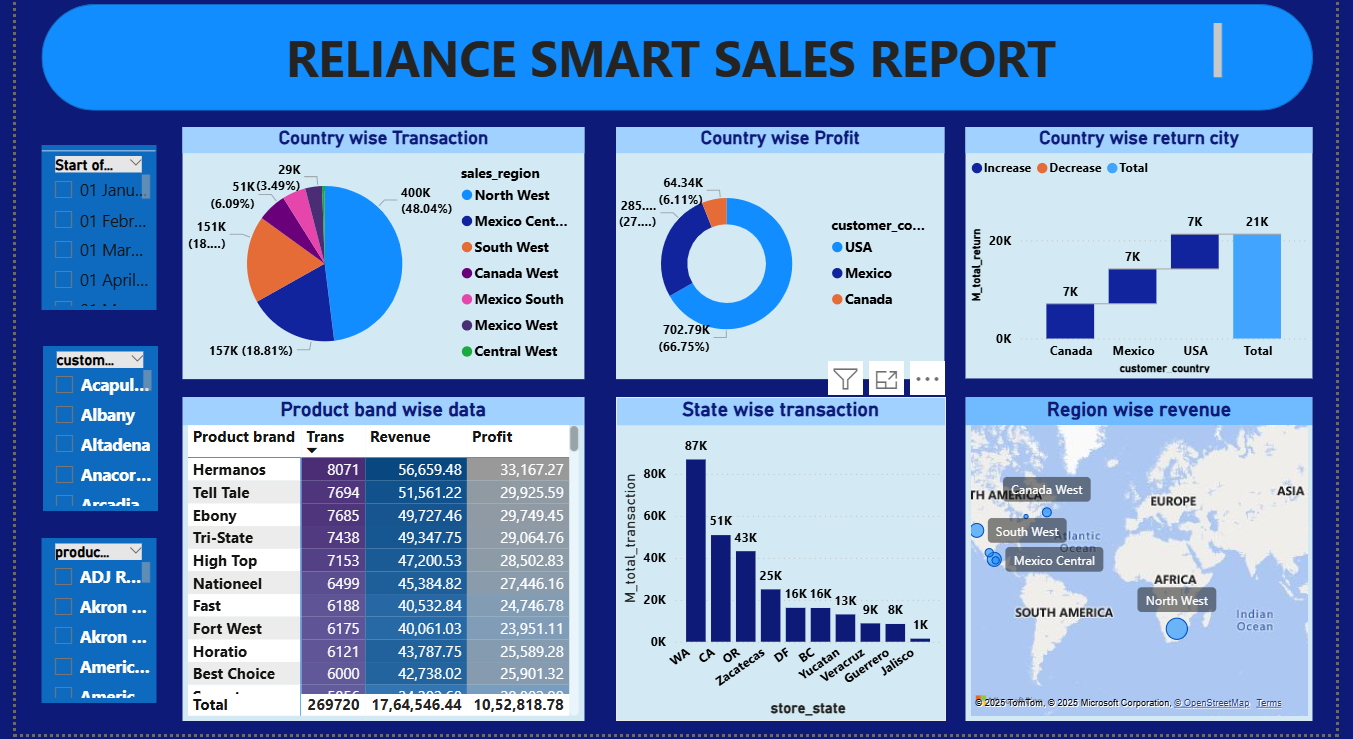

The page's visual inventory and layout, read from the dashboard file:
{"tool":"powerbi","page":{"name":"Sales Report","canvas":[1280,720],"ordinal":1},"visuals":[{"type":"shape","box":[24.6,12.3,1233.8,103.5],"z":0},{"type":"textbox","box":[105.2,24.3,1070.3,68],"z":1000},{"type":"pieChart","title":"Country wise Transaction","fields":{"Category":["D_Regions.sales_region"],"Y":["Sum(Transactions-20241014T161058Z-001.quantity)"]},"box":[161.9,131.2,390.2,244.5],"z":2000},{"type":"donutChart","title":"Country wise Profit","fields":{"Category":["D_Customers.customer_country"],"Y":["measure (3).M_Total_profit"]},"box":[582.9,131.2,319,244.5],"z":3000},{"type":"waterfallChart","title":"Country wise return city","fields":{"Category":["D_Customers.customer_country"],"Y":["measure (3).M_total_return"]},"box":[921.4,131.6,337,244],"z":4000},{"type":"pivotTable","title":"Product band wise data","fields":{"Rows":["D_Products.product_brand"],"Values":["measure (3).M_total_transaction","measure (3).M_total_revenue","measure (3).M_Total_profit"]},"box":[161.5,393.1,389.6,314.2],"z":5000},{"type":"columnChart","title":"State wise transaction ","fields":{"Category":["D_Stores.store_state"],"Y":["measure (3).M_total_transaction"]},"box":[582.7,393.1,319.4,314.2],"z":6000},{"type":"map","title":"Region wise revenue","fields":{"Size":["measure (3).M_total_revenue"],"Category":["D_Regions.sales_region"]},"box":[921.4,393.1,337,314.2],"z":7000},{"type":"slicer","fields":{"Values":["D_Customers.customer_city"]},"box":[26.3,344,110.6,159.7],"z":8000},{"type":"slicer","fields":{"Values":["D_Calendar.Start of Month.Variation.Date Hierarchy.Year"]},"box":[24.6,149.2,110.6,159.7],"z":9000},{"type":"slicer","fields":{"Values":["D_Products.product_name"]},"box":[24.6,530,110.6,159.7],"z":10000}]}

Visuals, with their boxes in screenshot pixels (x1, y1, x2, y2), scaled from the page's 1280x720 canvas onto the 1353x739 screenshot:
shape: pyautogui.locateOnScreen(26, 13, 1330, 119)
textbox: pyautogui.locateOnScreen(111, 25, 1243, 95)
"Country wise Transaction" pieChart: pyautogui.locateOnScreen(171, 135, 584, 386)
"Country wise Profit" donutChart: pyautogui.locateOnScreen(616, 135, 953, 386)
"Country wise return city" waterfallChart: pyautogui.locateOnScreen(974, 135, 1330, 386)
"Product band wise data" pivotTable: pyautogui.locateOnScreen(171, 403, 583, 726)
"State wise transaction " columnChart: pyautogui.locateOnScreen(616, 403, 954, 726)
"Region wise revenue" map: pyautogui.locateOnScreen(974, 403, 1330, 726)
slicer - D_Customers.customer_city: pyautogui.locateOnScreen(28, 353, 145, 517)
slicer - D_Calendar.Start of Month.Variation.Date Hierarchy.Year: pyautogui.locateOnScreen(26, 153, 143, 317)
slicer - D_Products.product_name: pyautogui.locateOnScreen(26, 544, 143, 708)
